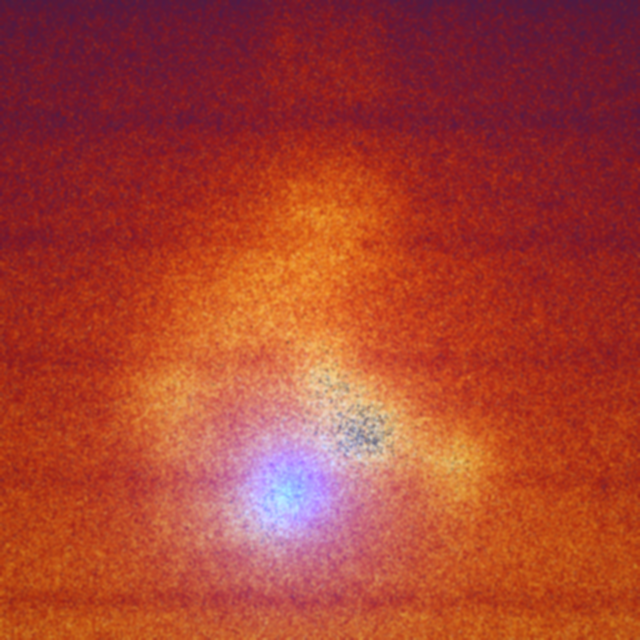nozzle: (234, 447, 333, 534)
